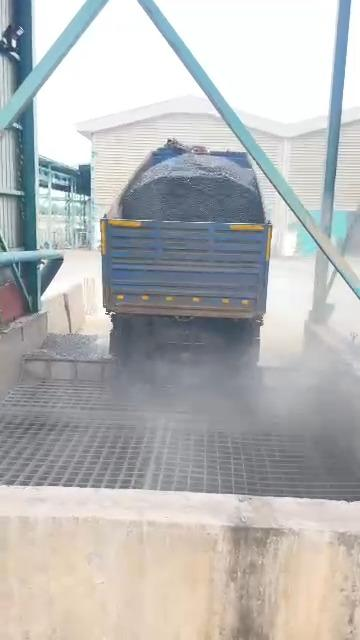gravel: (123, 150, 264, 221), (111, 316, 259, 368), (28, 334, 111, 361)
